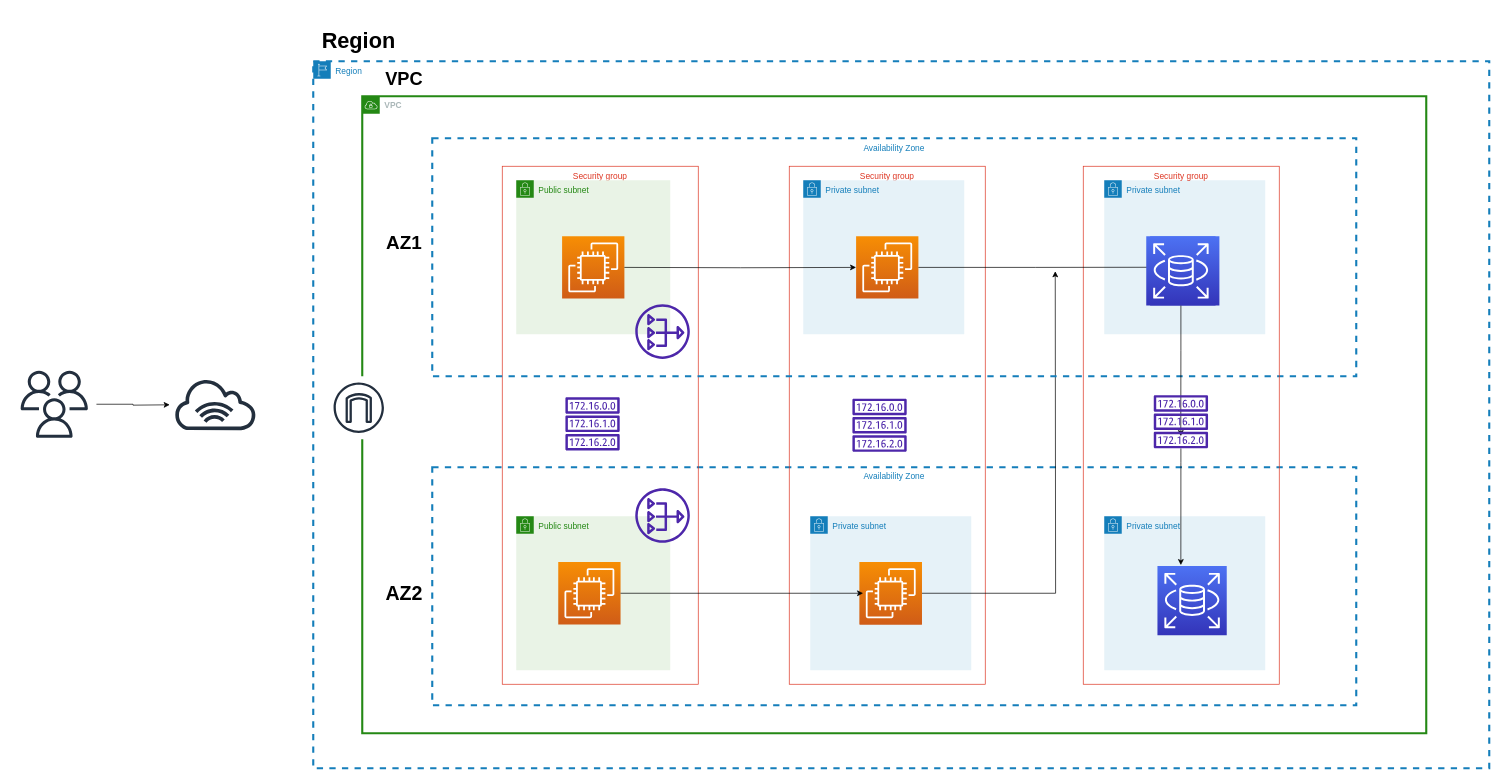
Image size: 1502x781. Some labels were removed from this diagram. Here are the shapes that lost their labels. From the top down, the box of each, then its label:
(12, 362, 96, 446): Users
(327, 376, 390, 439): Internet gateway
